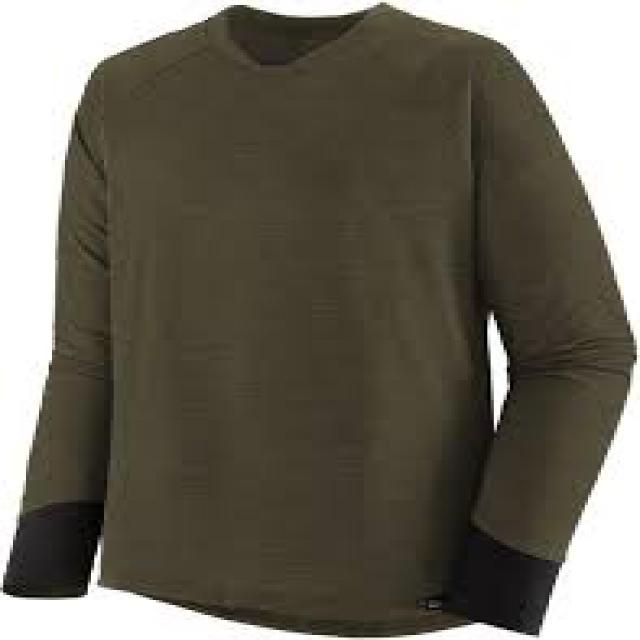plain: (18, 8, 631, 543)
